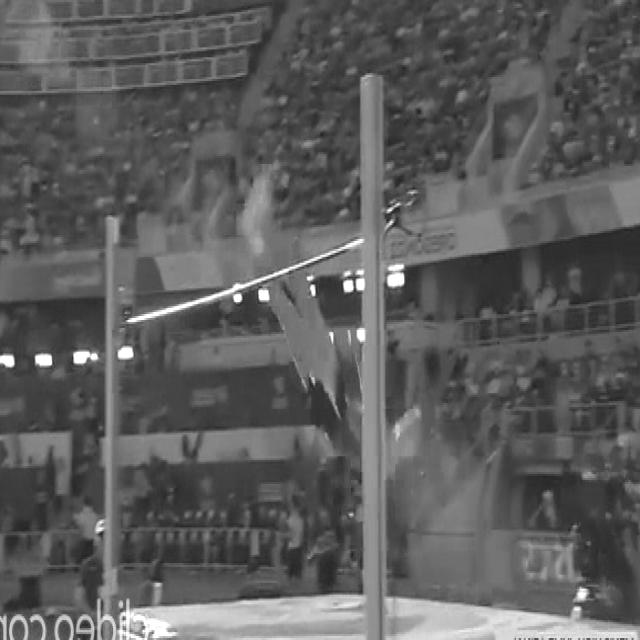land: (255, 184, 425, 474)
